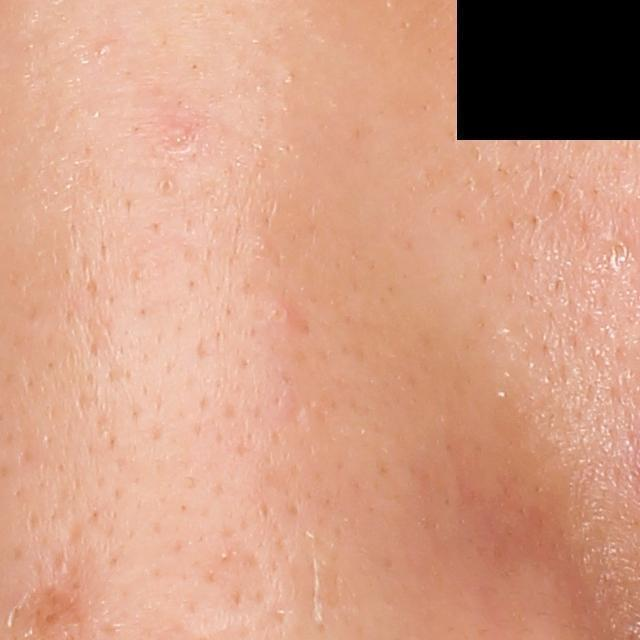comedo: (607, 237, 629, 273), (548, 185, 567, 207), (158, 176, 176, 194), (97, 39, 111, 58)
